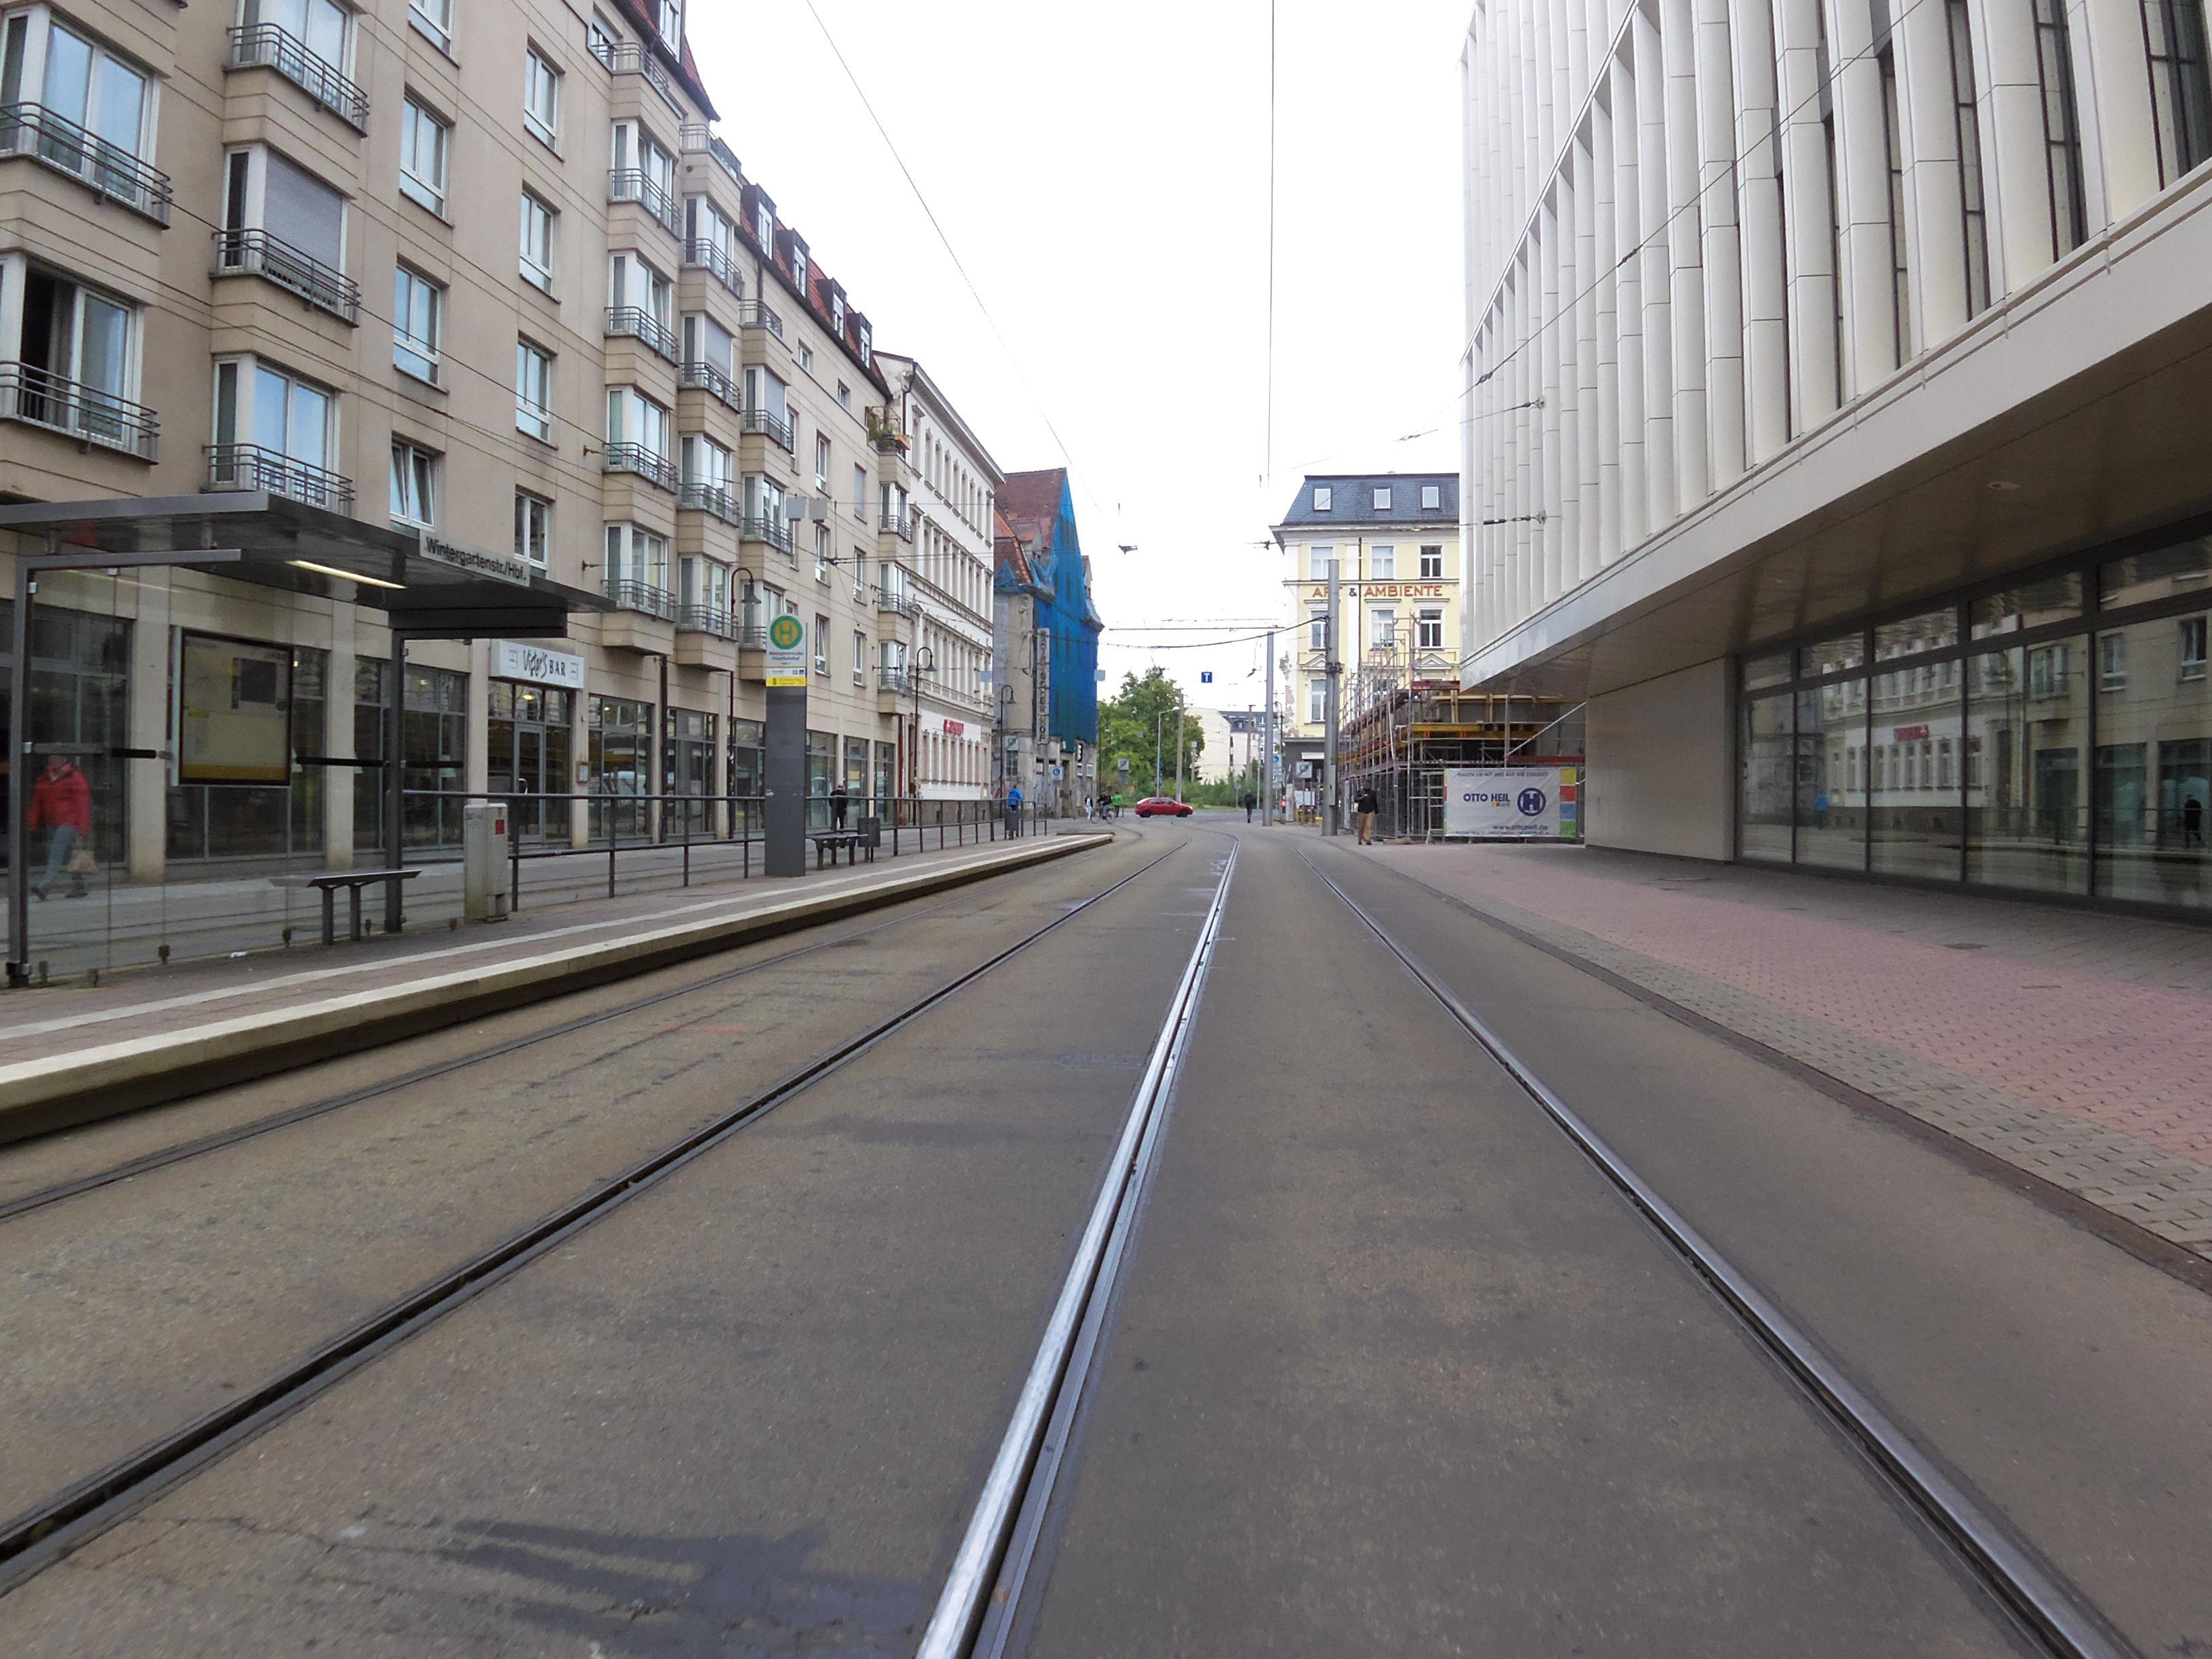vinyl banner: (1421, 744, 1595, 854)
